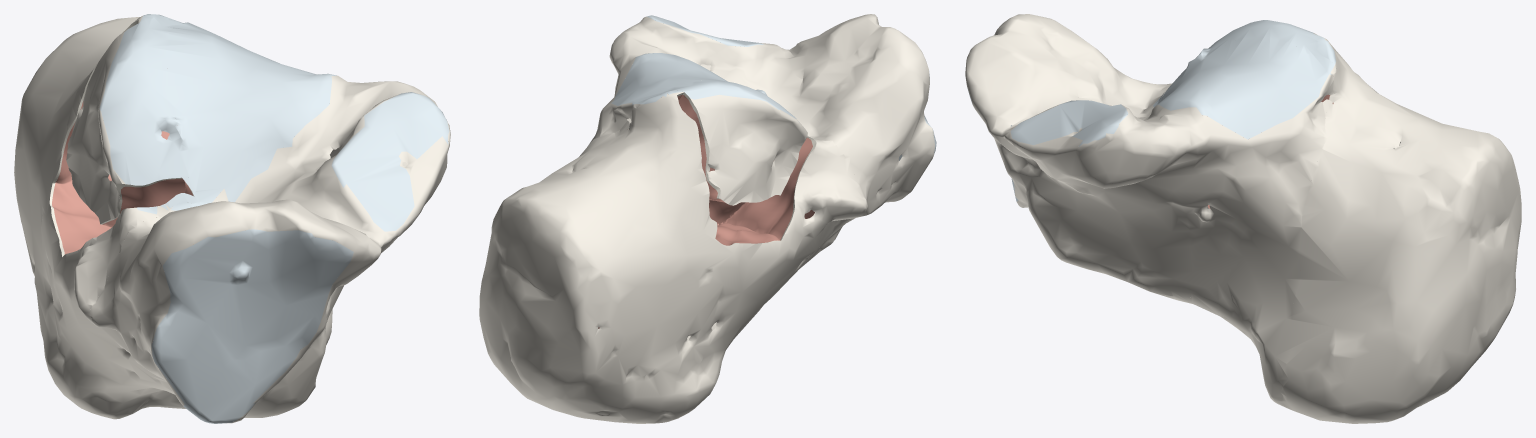
File: S-IIA_elderly.glb
3 renders of one model, left to right at view 1: azimuth 30°, elevation 25°; view 2: azimuth 150°, elevation 25°; view 3: azimuth 270°, elevation 25°, orthographic. The views are drawn at different scales.
Parts seen in each view (by area): view 1: calcaneus: sustentacular fragment, calcaneus: tuberosity, calcaneus: depressed lateral joint fragment; view 2: calcaneus: tuberosity, calcaneus: sustentacular fragment, calcaneus: depressed lateral joint fragment; view 3: calcaneus: sustentacular fragment, calcaneus: tuberosity, calcaneus: depressed lateral joint fragment.
Boxes of the visible parts, left/top/right/bottom form: calcaneus: sustentacular fragment: left=90, top=18, right=450, bottom=423; calcaneus: tuberosity: left=14, top=14, right=332, bottom=419; calcaneus: depressed lateral joint fragment: left=66, top=18, right=190, bottom=227; calcaneus: tuberosity: left=479, top=90, right=867, bottom=423; calcaneus: sustentacular fragment: left=589, top=14, right=936, bottom=328; calcaneus: depressed lateral joint fragment: left=661, top=79, right=807, bottom=205; calcaneus: sustentacular fragment: left=965, top=14, right=1335, bottom=407; calcaneus: tuberosity: left=1155, top=33, right=1521, bottom=423; calcaneus: depressed lateral joint fragment: left=1170, top=20, right=1317, bottom=85.
Bounding box in the file's own units: 0.0475 × 0.0513 × 0.0757.
